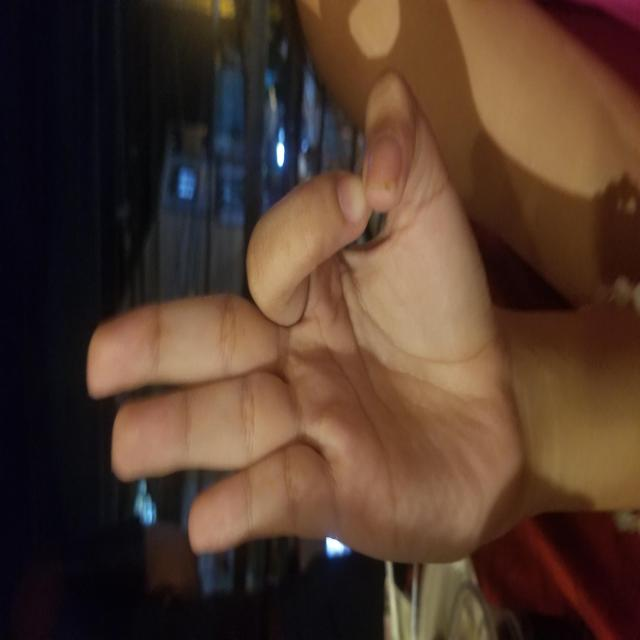F: (75, 84, 568, 516)
